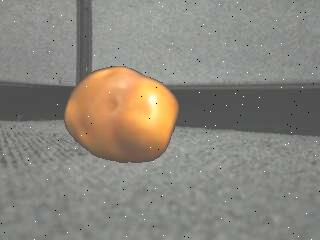Potato: (60, 65, 184, 167)
